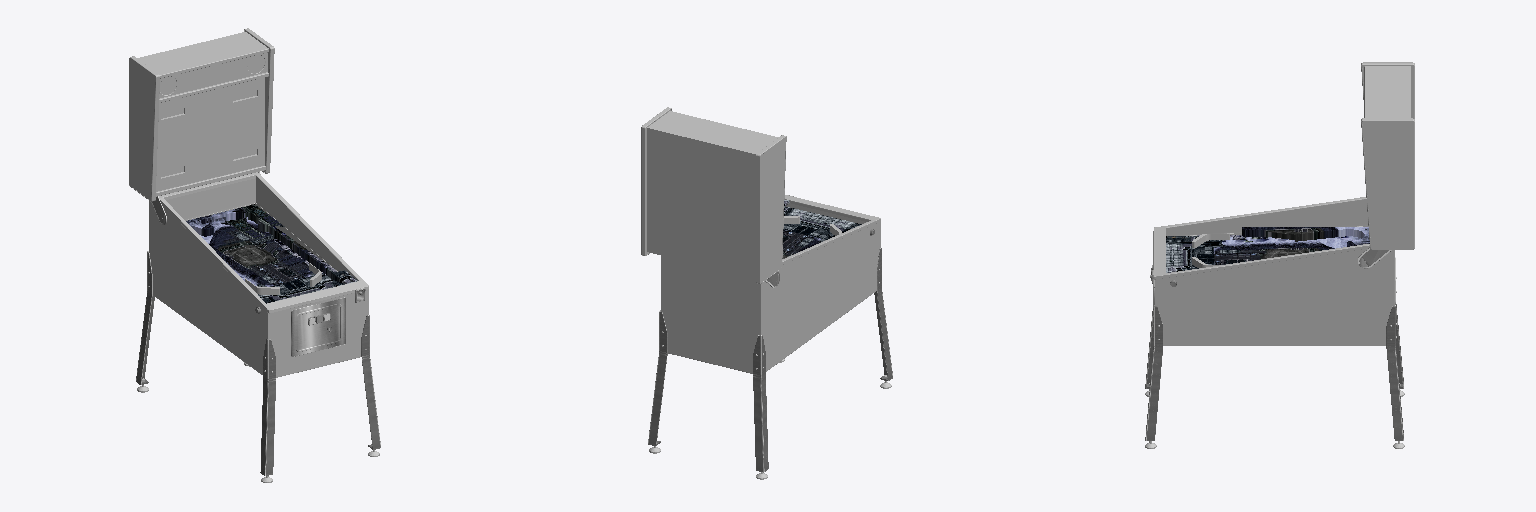
The picture shows the model from 3 angles: view 1: azimuth 30°, elevation 25°; view 2: azimuth 150°, elevation 25°; view 3: azimuth 270°, elevation 25°; orthographic projection.
Visible parts, largest first — view 1: ARCHMODELS_47_050_4.002, ARCHMODELS_47_050_9, ARCHMODELS_47_050_4, ARCHMODELS_47_050_52, ARCHMODELS_47_050_5, ARCHMODELS_47_050_1, ARCHMODELS_47_050_2, ARCHMODELS_47_050_6, ARCHMODELS_47_050_22, ARCHMODELS_47_050_49.001, ARCHMODELS_47_050_19; view 2: ARCHMODELS_47_050_1, ARCHMODELS_47_050_4.002, ARCHMODELS_47_050_4.001, ARCHMODELS_47_050_5, ARCHMODELS_47_050_2, ARCHMODELS_47_050_52, ARCHMODELS_47_050_6, ARCHMODELS_47_050_4; view 3: ARCHMODELS_47_050_4.003, ARCHMODELS_47_050_5, ARCHMODELS_47_050_52, ARCHMODELS_47_050_2, ARCHMODELS_47_050_4, ARCHMODELS_47_050_6, ARCHMODELS_47_050_1, ARCHMODELS_47_050_49.001.
Boxes of the visible parts, x1=… form: ARCHMODELS_47_050_4.002: x1=149, y1=201, x2=267, y2=374; ARCHMODELS_47_050_9: x1=156, y1=77, x2=264, y2=191; ARCHMODELS_47_050_4: x1=153, y1=174, x2=368, y2=377; ARCHMODELS_47_050_52: x1=200, y1=217, x2=344, y2=303; ARCHMODELS_47_050_5: x1=129, y1=28, x2=274, y2=201; ARCHMODELS_47_050_1: x1=137, y1=32, x2=268, y2=196; ARCHMODELS_47_050_2: x1=136, y1=251, x2=380, y2=475; ARCHMODELS_47_050_6: x1=159, y1=172, x2=368, y2=313; ARCHMODELS_47_050_22: x1=291, y1=297, x2=345, y2=356; ARCHMODELS_47_050_49.001: x1=186, y1=204, x2=357, y2=285; ARCHMODELS_47_050_19: x1=180, y1=58, x2=244, y2=92; ARCHMODELS_47_050_1: x1=647, y1=111, x2=778, y2=277; ARCHMODELS_47_050_4.002: x1=761, y1=222, x2=879, y2=370; ARCHMODELS_47_050_4.001: x1=661, y1=255, x2=759, y2=373; ARCHMODELS_47_050_5: x1=641, y1=107, x2=786, y2=283; ARCHMODELS_47_050_2: x1=648, y1=248, x2=892, y2=472; ARCHMODELS_47_050_52: x1=782, y1=207, x2=861, y2=258; ARCHMODELS_47_050_6: x1=782, y1=195, x2=880, y2=264; ARCHMODELS_47_050_4: x1=663, y1=203, x2=880, y2=373; ARCHMODELS_47_050_4.003: x1=1156, y1=249, x2=1393, y2=345; ARCHMODELS_47_050_5: x1=1361, y1=62, x2=1414, y2=249; ARCHMODELS_47_050_52: x1=1166, y1=235, x2=1360, y2=271; ARCHMODELS_47_050_2: x1=1145, y1=257, x2=1403, y2=440; ARCHMODELS_47_050_4: x1=1155, y1=202, x2=1394, y2=345; ARCHMODELS_47_050_6: x1=1153, y1=197, x2=1369, y2=279; ARCHMODELS_47_050_1: x1=1364, y1=66, x2=1410, y2=117; ARCHMODELS_47_050_49.001: x1=1166, y1=227, x2=1369, y2=272.
Size of the model in its own units: 0.7448 by 1.97 by 1.46.
Materials: 22 (3 with a texture image).